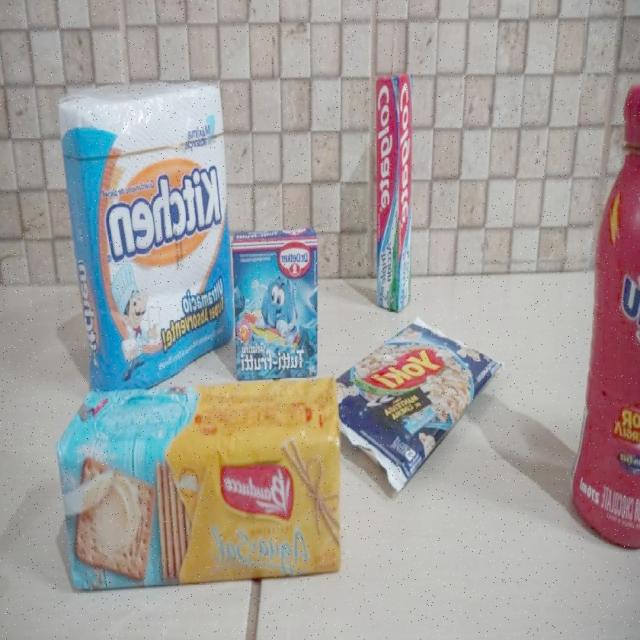ChocolateMilk: (566, 79, 640, 545), (569, 73, 640, 548)
Cracker: (55, 372, 345, 596), (59, 390, 339, 597)
Gelatine: (230, 223, 322, 390), (232, 222, 319, 382)
Napkin: (56, 73, 236, 400), (60, 82, 229, 397)
Popcorn: (336, 313, 501, 521), (318, 314, 505, 494)
Toothpaste: (365, 68, 421, 313), (372, 70, 414, 314)
